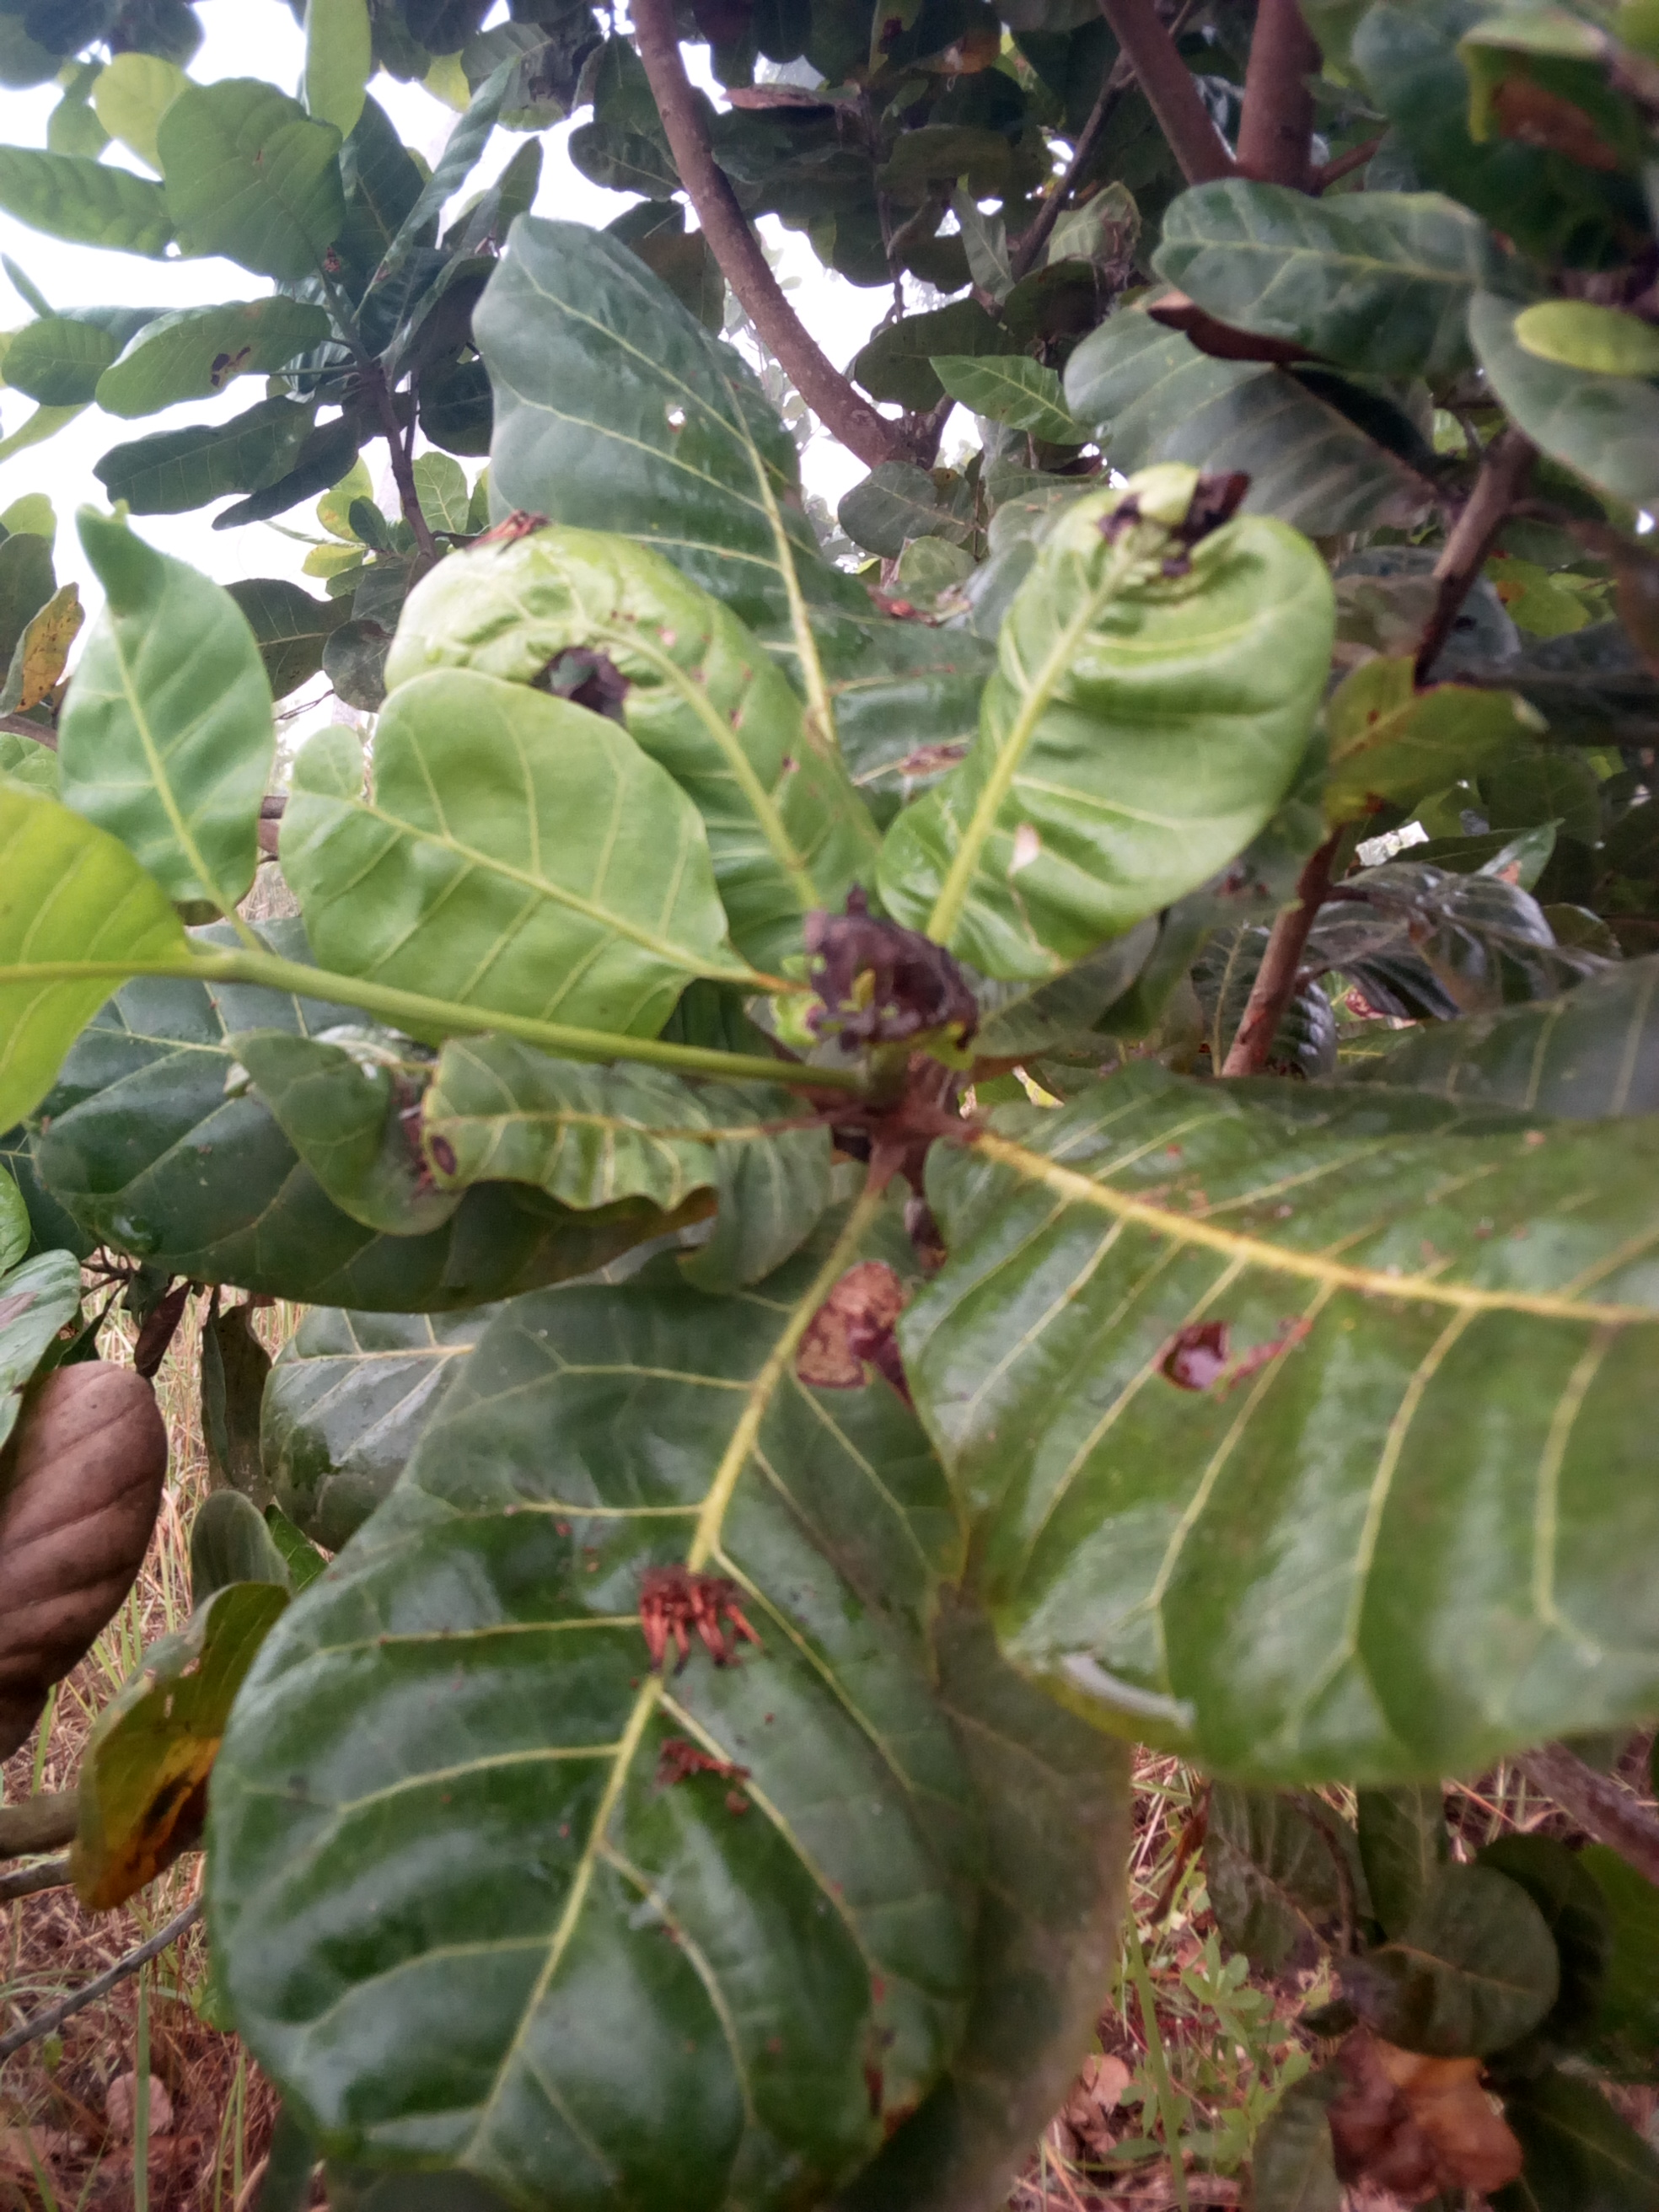Helopeltis anacardii: (220, 1291, 948, 2212), (920, 479, 1328, 972), (281, 674, 735, 1005), (418, 1031, 840, 1214), (1154, 176, 1500, 371)
